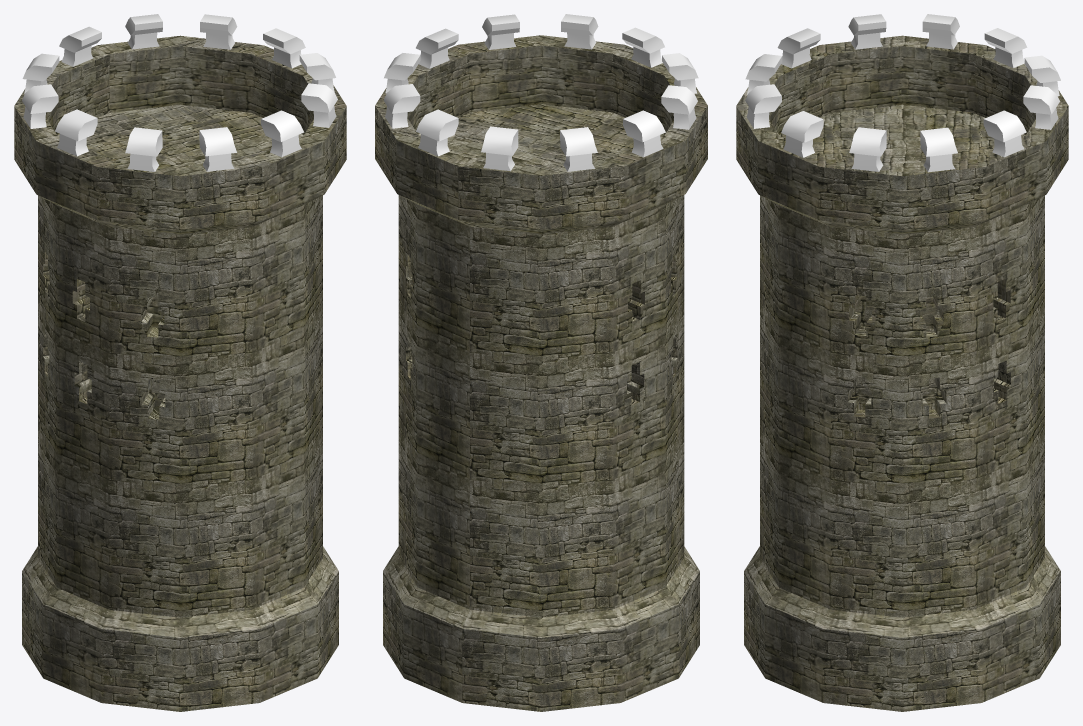
Rendered from tower3.fbx.
3 views of the same model, side by side, from view 1: azimuth 30°, elevation 25°; view 2: azimuth 150°, elevation 25°; view 3: azimuth 270°, elevation 25° (orthographic).
Parts seen in each view (by area): view 1: Default_Layer; view 2: Default_Layer; view 3: Default_Layer.
Part boxes in pixels (box(x1,y1,x2,y2)): Default_Layer: box(14, 14, 346, 711); Default_Layer: box(375, 14, 707, 711); Default_Layer: box(736, 14, 1068, 711).
Bounding box in the file's own units: 1454 × 2745 × 1454.
